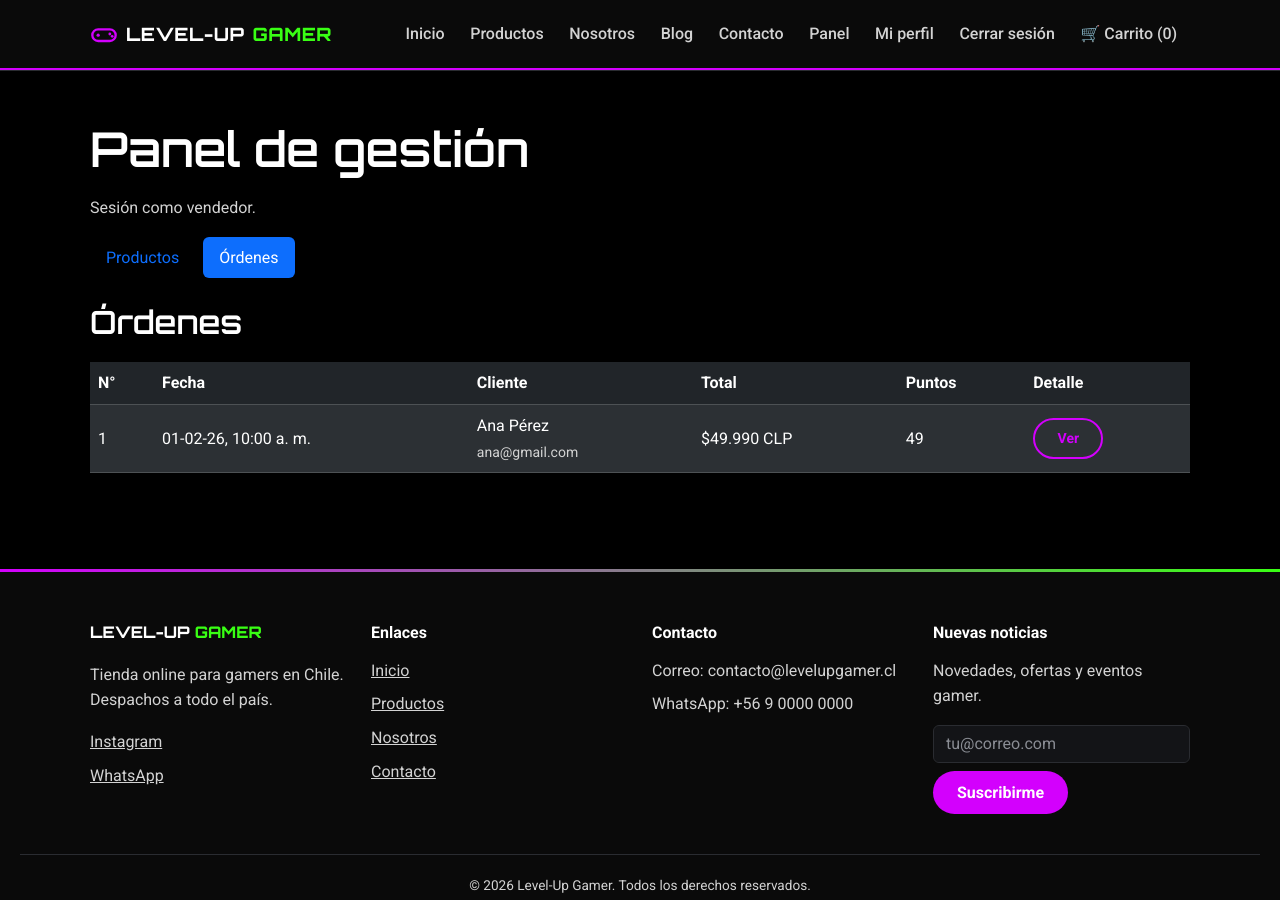
Test: Panel · órdenes › el VENDEDOR ve las órdenes de todos los clientes y abre el detalle
expect the text "Ana Pérez" is shown: met, box left=477, top=416, right=549, bottom=435
expect the text "ana@gmail.com" is shown: met, box left=477, top=444, right=578, bottom=460
Step 1. Click the button "Ver" → x=1068, y=439, box left=1033, top=418, right=1103, bottom=459
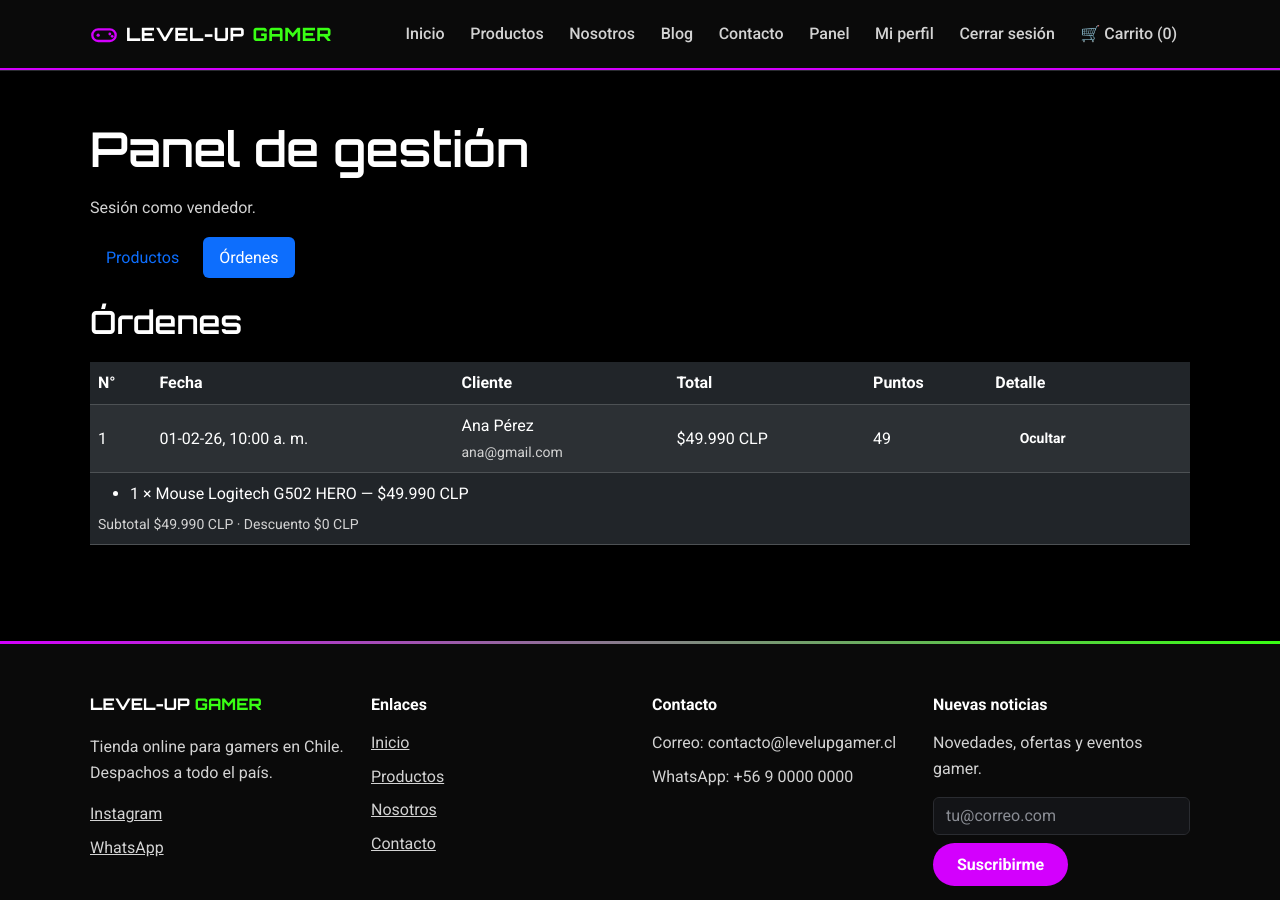
expect the list item "1 × Mouse Logitech G502 HERO — $49.990 CLP" is shown: met, box left=130, top=484, right=468, bottom=503
